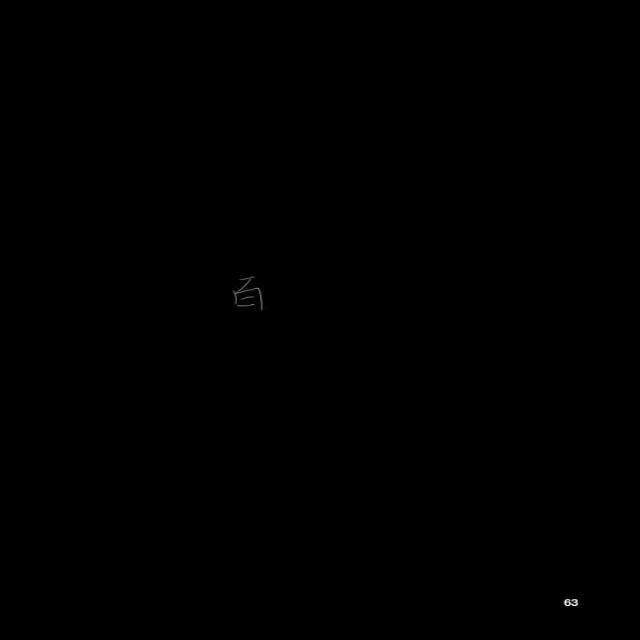100 -a hundred-: (229, 273, 266, 313)
